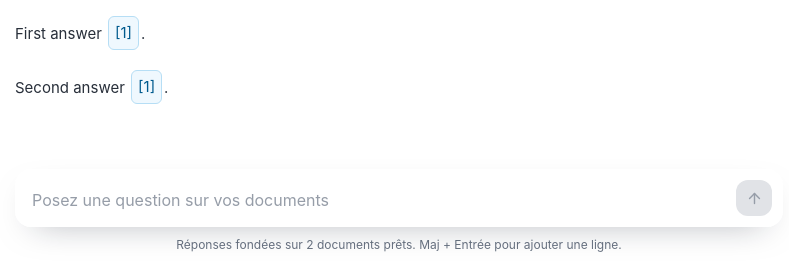
Test: keeps citations attached to the sources of their own answer
This screenshot has width=789, height=269.
Click the button named "Ouvrir la source 1 :" at (147, 87), box left=131, top=70, right=162, bottom=104
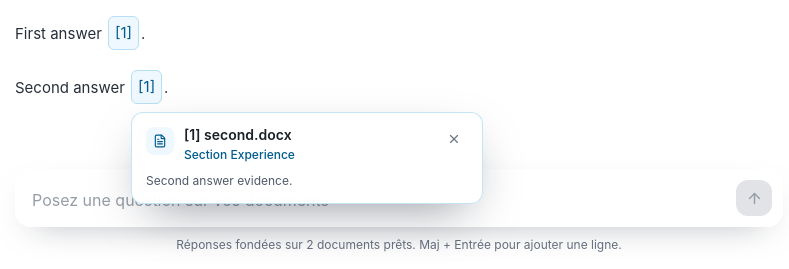
Expected: the text "[1] second.docx" is shown, left=184, top=126, right=292, bottom=143
Expected: the text "Second answer evidence." is shown, left=146, top=173, right=292, bottom=188
